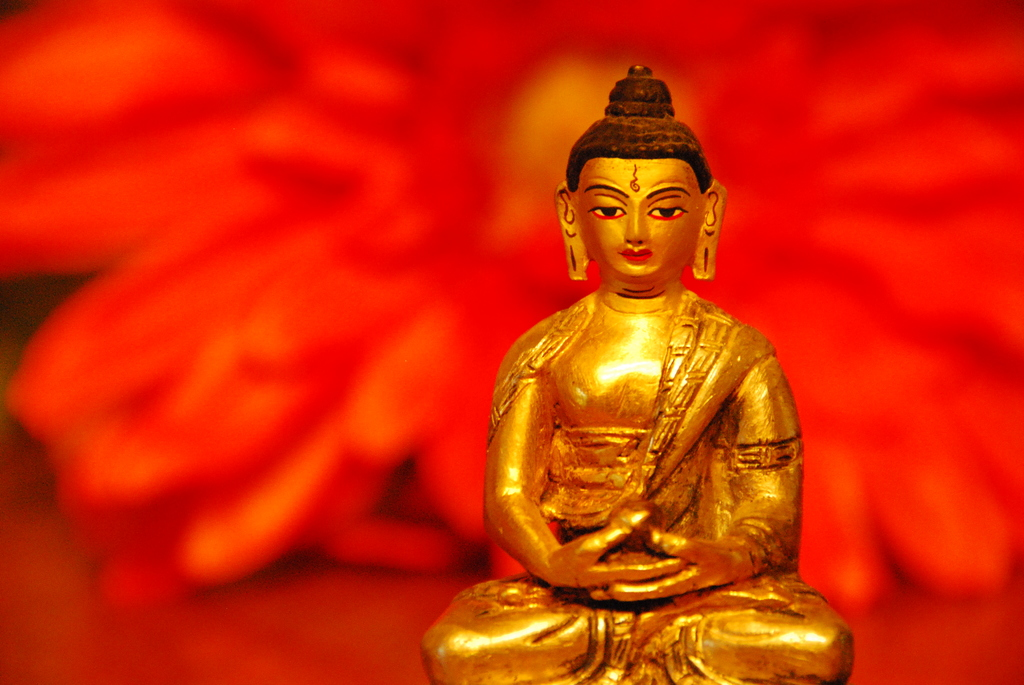Person: (419, 64, 854, 685)
